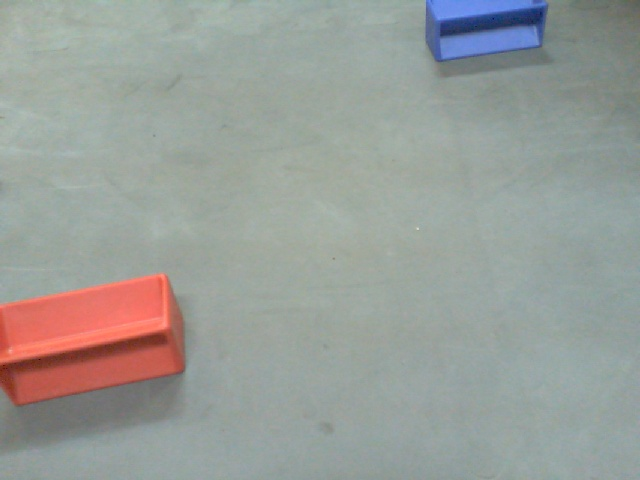BlueSample: (418, 1, 549, 62)
RedSample: (1, 274, 186, 411)
